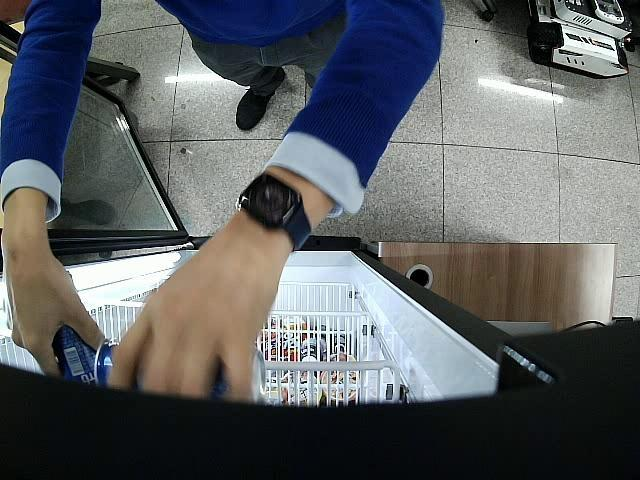16_hot6: (94, 338, 268, 400), (53, 324, 99, 384)
